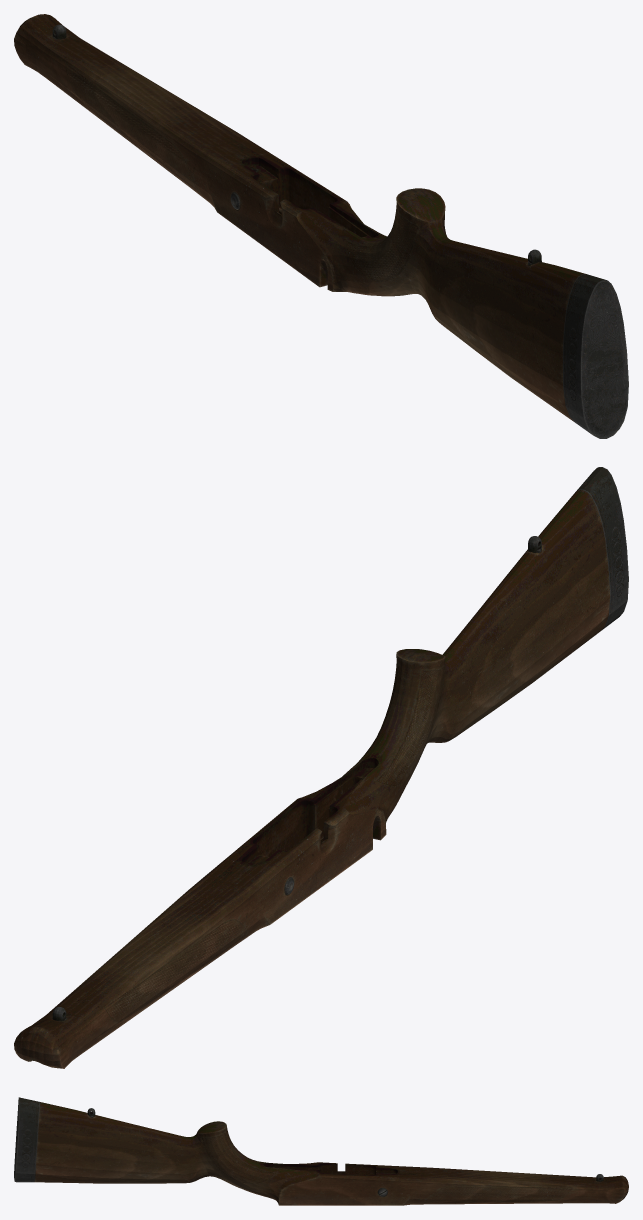
3 views of the same model, one above another, from view 1: azimuth 30°, elevation 25°; view 2: azimuth 150°, elevation 25°; view 3: azimuth 270°, elevation 25° (orthographic). The views are drawn at different scales.
Visible parts, largest first — view 1: TW_5de655be4a9f347bc92edb88_PZ_Import; view 2: TW_5de655be4a9f347bc92edb88_PZ_Import; view 3: TW_5de655be4a9f347bc92edb88_PZ_Import.
Boxes of the visible parts, x1=… form: TW_5de655be4a9f347bc92edb88_PZ_Import: x1=14, y1=14, x2=628, y2=438; TW_5de655be4a9f347bc92edb88_PZ_Import: x1=14, y1=467, x2=628, y2=1068; TW_5de655be4a9f347bc92edb88_PZ_Import: x1=14, y1=1097, x2=628, y2=1205.
Size of the model in its own units: 0.0273 by 0.4681 by 0.0846.
Materials: 1 (1 with a texture image).
